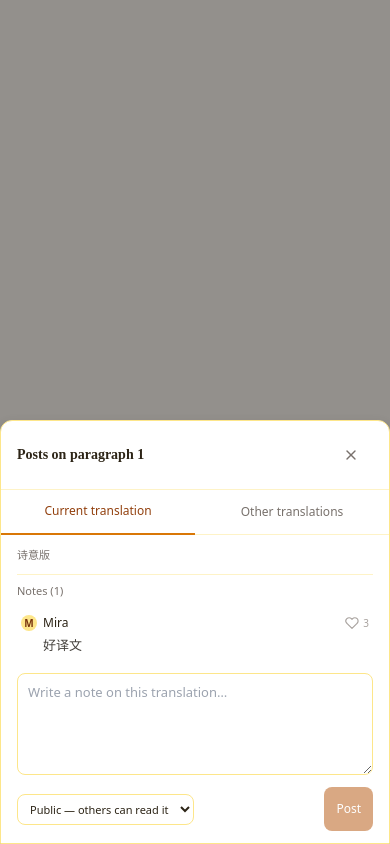
Test case: likes render on note rows and detail, toggling optimistically
The image size is (390, 844).
Click the button with test id "like-comment-201" at (357, 623), box 345,615 -> 369,631
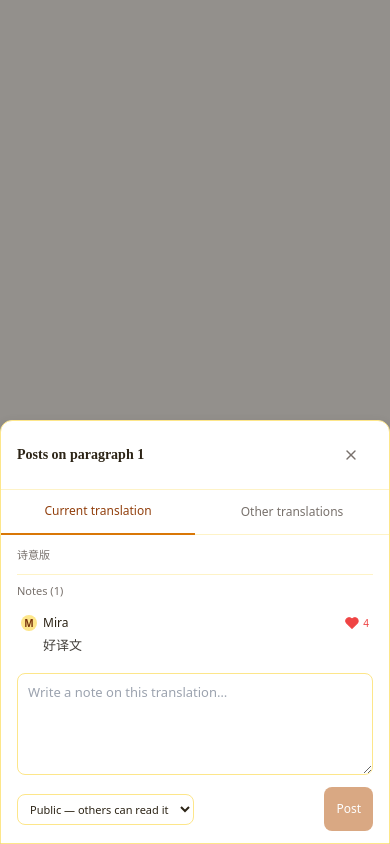
Now the button with test id "like-comment-201" reads "4", box 345,615 -> 369,631
